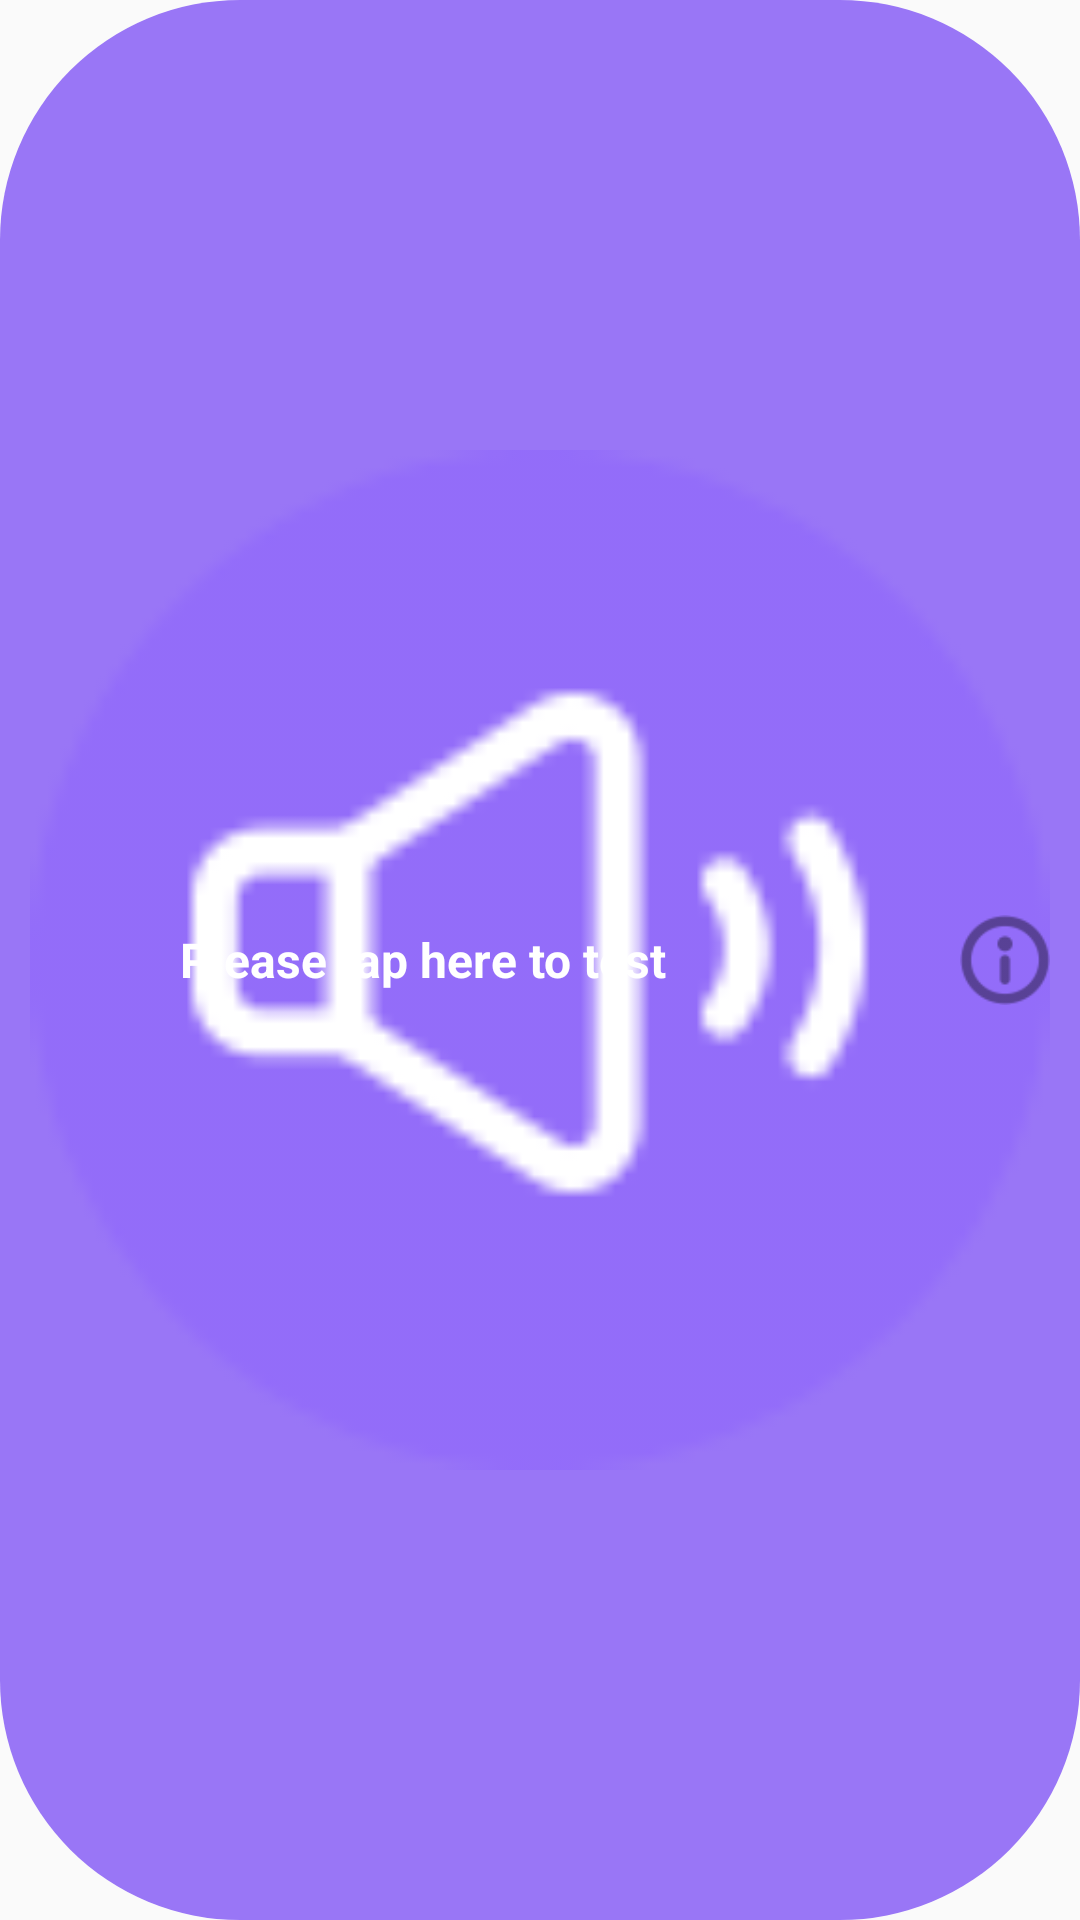

Screen size 1080px×1920px. Icon name, then its center in pixels as (x=x, y=y):
info: (x=1005, y=960)
